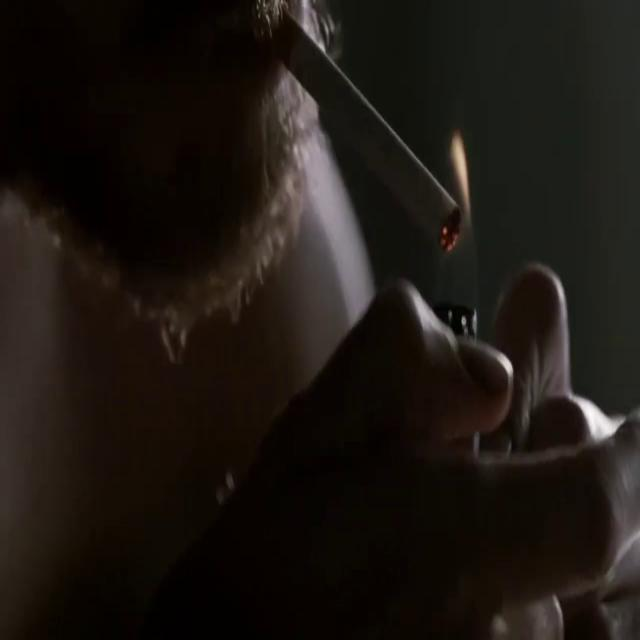Smooking: (285, 29, 480, 268)
